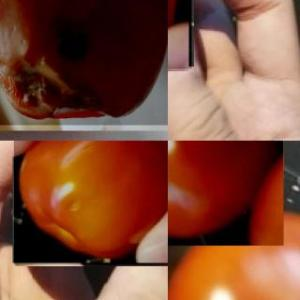tomato: (15, 140, 168, 264), (168, 204, 300, 300), (168, 141, 282, 245)
